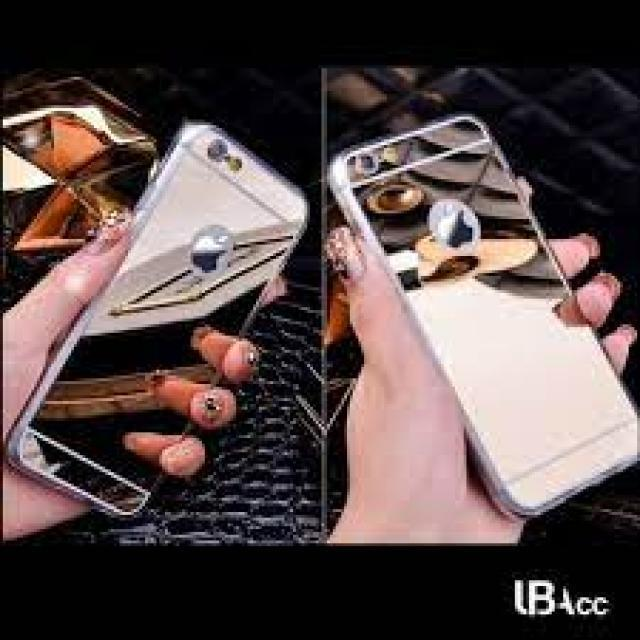Phone: (328, 115, 640, 522), (0, 117, 309, 521)
